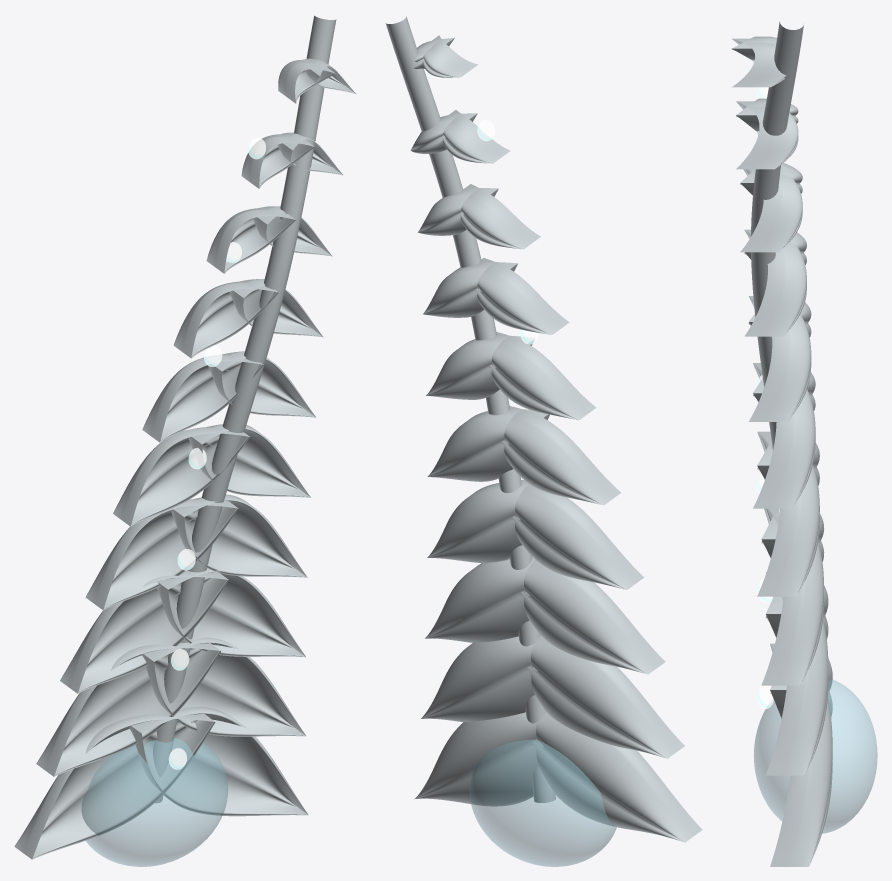
3 renders of one model, left to right at view 1: azimuth 30°, elevation 25°; view 2: azimuth 150°, elevation 25°; view 3: azimuth 270°, elevation 25°, orthographic. The views are drawn at different scales.
Parts seen in each view (by area): view 1: frond-root, fern-stem, leaflet-0--1, leaflet-0-1, leaflet-1--1, leaflet-2--1, leaflet-1-1, leaflet-3--1, leaflet-2-1, leaflet-4--1, leaflet-3-1, leaflet-5--1 (+10 smaller); view 2: frond-root, leaflet-0--1, leaflet-1--1, leaflet-2--1, leaflet-0-1, fern-stem, leaflet-3--1, leaflet-1-1, leaflet-4--1, leaflet-2-1, leaflet-3-1, leaflet-5--1 (+9 smaller); view 3: frond-root, fern-stem, leaflet-0-1, leaflet-1-1, leaflet-2-1, leaflet-3-1, leaflet-4-1, leaflet-5-1, leaflet-6-1, leaflet-7-1, leaflet-8-1, leaflet-9-1 (+9 smaller).
Boxes of the visible parts, left/top/right/bottom form: frond-root: left=81, top=738, right=227, bottom=866; fern-stem: left=153, top=15, right=336, bottom=803; leaflet-0--1: left=14, top=714, right=215, bottom=859; leaflet-0-1: left=129, top=707, right=308, bottom=816; leaflet-1--1: left=36, top=643, right=221, bottom=776; leaflet-2--1: left=60, top=571, right=228, bottom=693; leaflet-1-1: left=142, top=637, right=306, bottom=736; leaflet-3--1: left=85, top=499, right=238, bottom=610; leaflet-2-1: left=157, top=568, right=305, bottom=657; leaflet-4--1: left=113, top=427, right=249, bottom=526; leaflet-3-1: left=171, top=494, right=307, bottom=577; leaflet-5--1: left=142, top=354, right=263, bottom=442; frond-root: left=470, top=739, right=616, bottom=866; leaflet-0--1: left=530, top=712, right=702, bottom=842; leaflet-1--1: left=525, top=635, right=684, bottom=758; leaflet-2--1: left=519, top=559, right=665, bottom=674; leaflet-0-1: left=414, top=712, right=543, bottom=806; fern-stem: left=385, top=16, right=555, bottom=802; leaflet-3--1: left=510, top=479, right=644, bottom=589; leaflet-1-1: left=421, top=636, right=537, bottom=722; leaflet-4--1: left=500, top=406, right=621, bottom=505; leaflet-2-1: left=425, top=556, right=534, bottom=642; leaflet-3-1: left=427, top=481, right=529, bottom=563; leaflet-5--1: left=488, top=332, right=596, bottom=420; frond-root: left=754, top=679, right=877, bottom=833; fern-stem: left=751, top=22, right=803, bottom=449; leaflet-0-1: left=770, top=643, right=832, bottom=866; leaflet-1-1: left=766, top=572, right=828, bottom=775; leaflet-2-1: left=761, top=508, right=824, bottom=685; leaflet-3-1: left=757, top=431, right=819, bottom=596; leaflet-4-1: left=753, top=363, right=815, bottom=508; leaflet-5-1: left=749, top=296, right=811, bottom=421; leaflet-6-1: left=744, top=229, right=806, bottom=336; leaflet-7-1: left=740, top=169, right=802, bottom=252; leaflet-8-1: left=736, top=101, right=798, bottom=169; leaflet-9-1: left=732, top=38, right=786, bottom=87.
Size of the model in its own units: 0.8303 by 2.07 by 0.3071.
